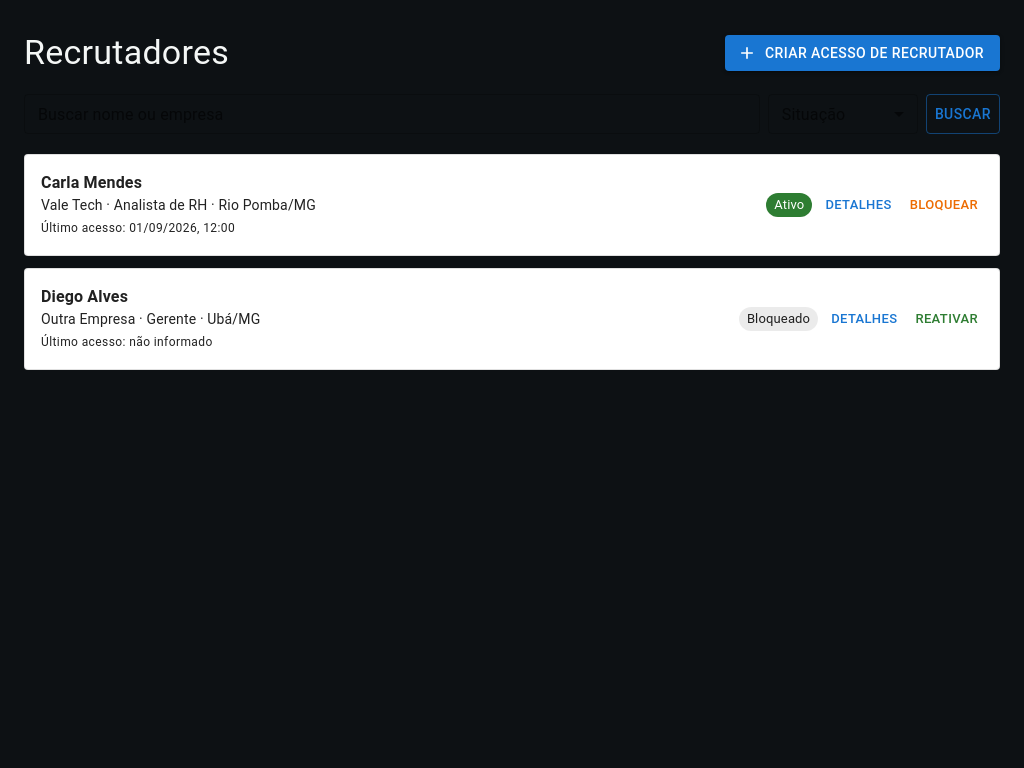
AdminRecruitersView detail › shows the skeleton and then the recruiter data
The width and height of the screenshot is (1024, 768).
Expected: the text "Carla Mendes" is shown, x1=41 y1=173 x2=142 y2=192
Click the button "Detalhes" next to "Ativo" at (858, 205), box x1=820 y1=190 x2=897 y2=220
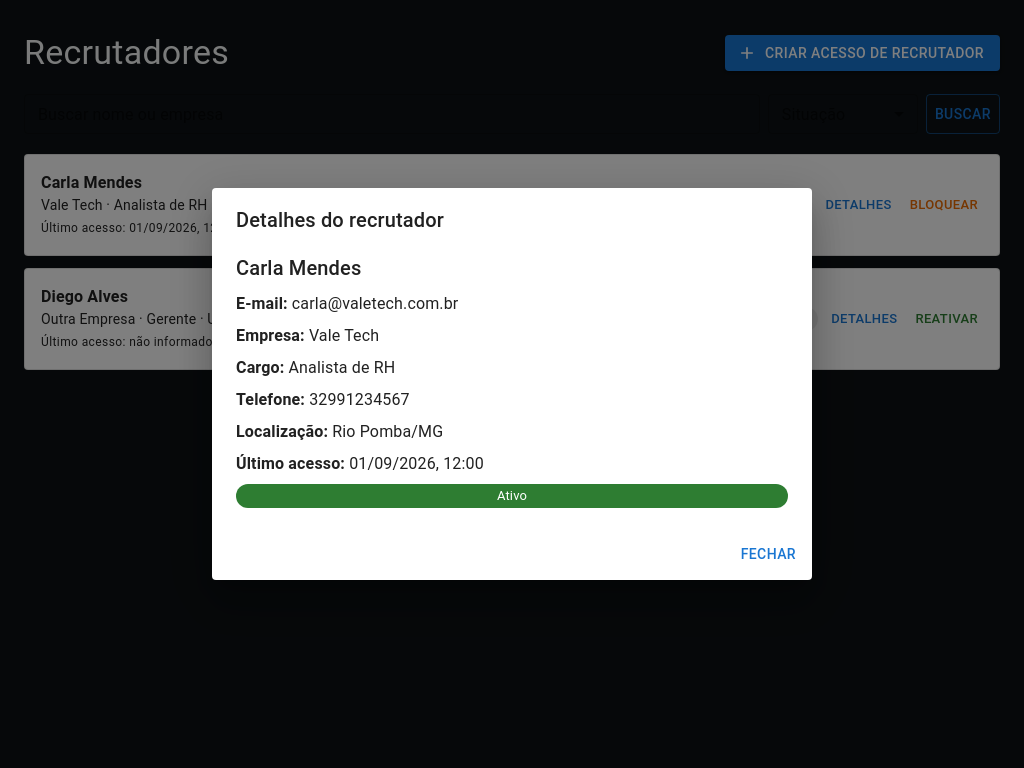
Expected: the heading "Carla Mendes" is shown, x1=236 y1=256 x2=361 y2=280
Expected: the text "E-mail: carla@valetech.com.br" is shown, x1=236 y1=294 x2=458 y2=313
Expected: the text "Empresa: Vale Tech" is shown, x1=236 y1=326 x2=379 y2=345
